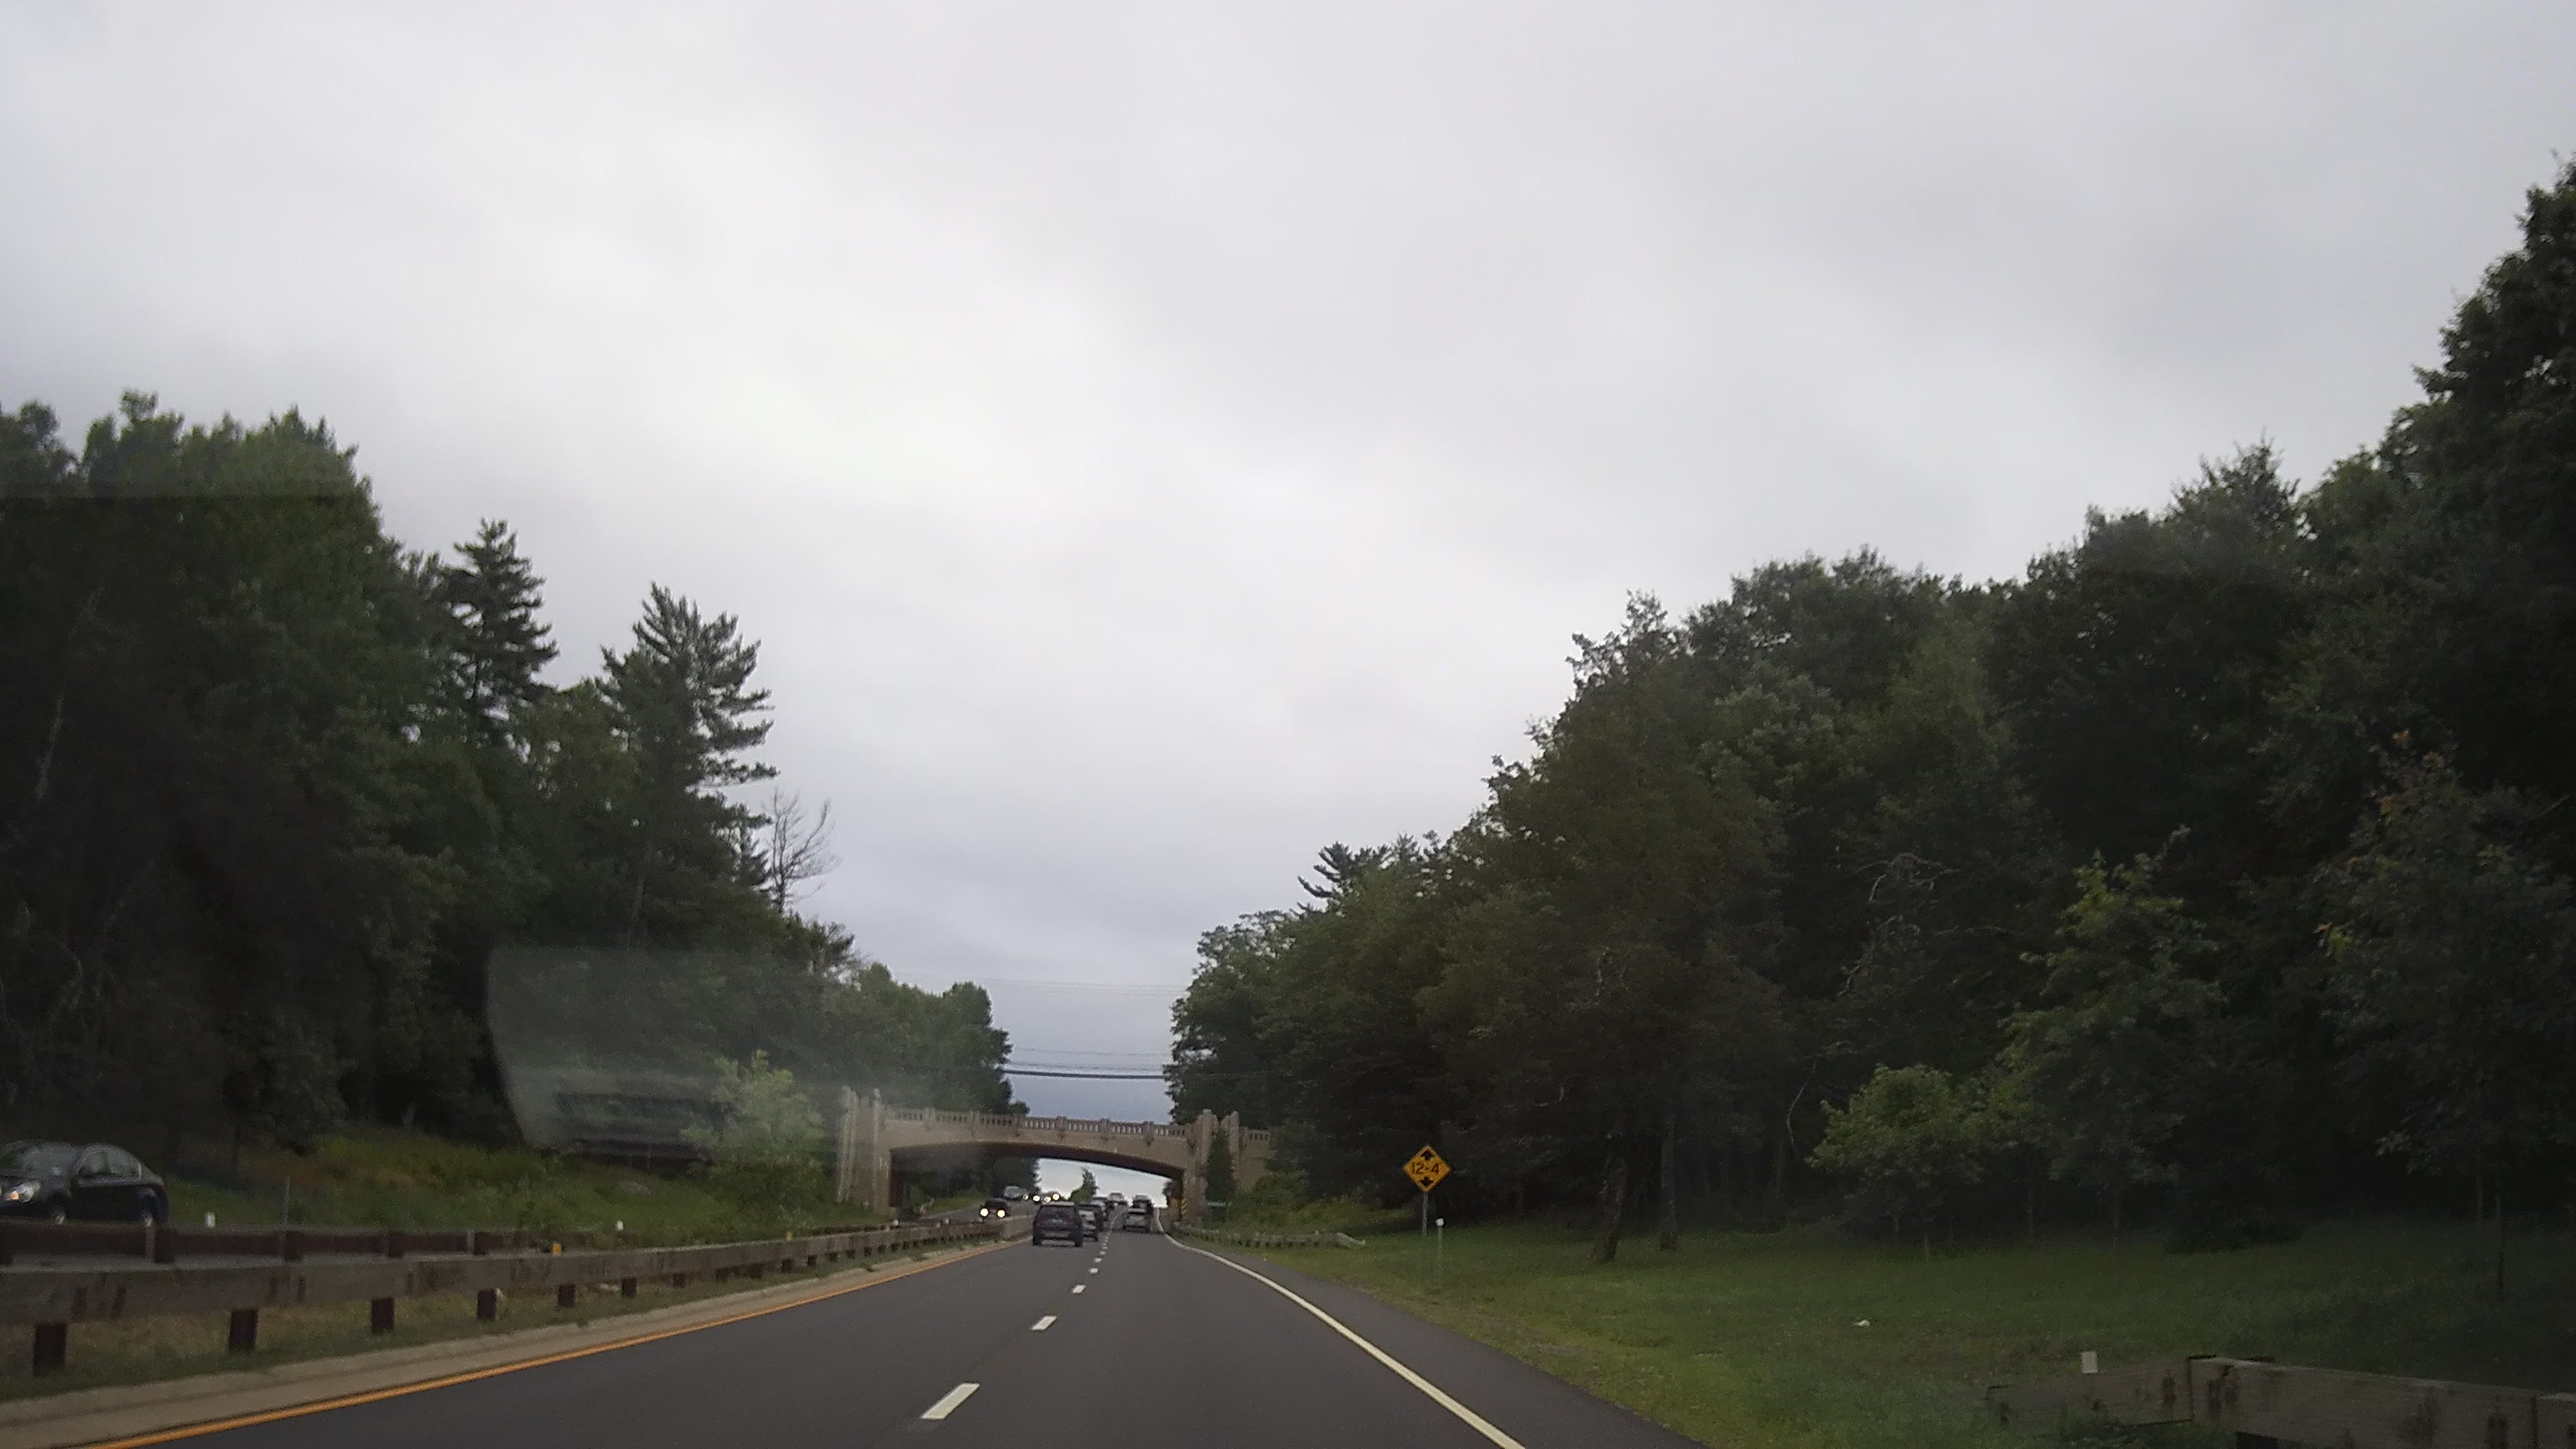low-clearance-sign: (1403, 1143, 1451, 1194)
